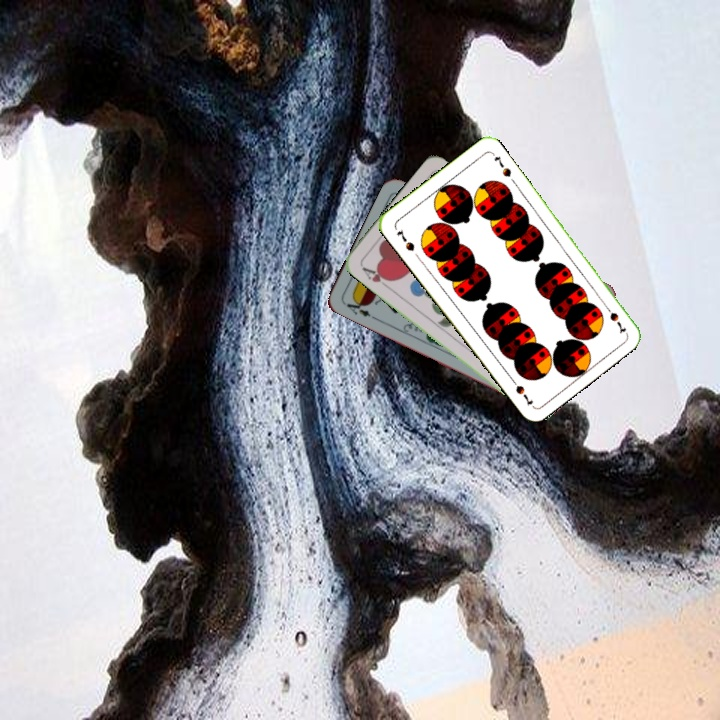EA: (340, 294, 378, 322)
HA: (358, 262, 394, 291)
S7: (600, 300, 629, 336), (393, 225, 417, 254)
